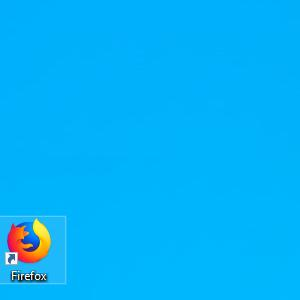firefox: (5, 218, 53, 265)
